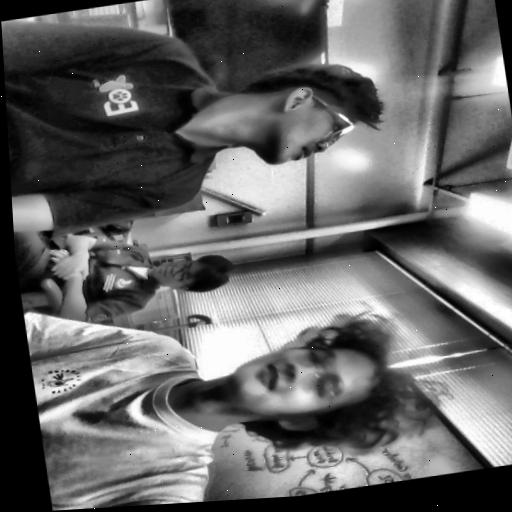Daifuku: (191, 304, 442, 472)
Not Daifuku: (240, 57, 382, 170), (149, 248, 239, 306)
